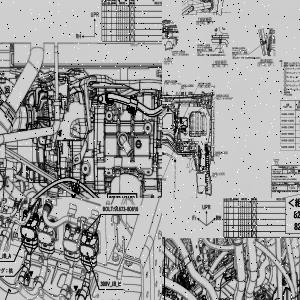PartNumber: (114, 206, 139, 212), (109, 195, 135, 198), (216, 94, 229, 97), (172, 50, 185, 53), (197, 44, 210, 47), (215, 151, 228, 154), (212, 172, 225, 175), (281, 113, 294, 116), (281, 119, 294, 122), (281, 139, 294, 142), (282, 126, 294, 129), (164, 80, 177, 82), (181, 84, 194, 86), (198, 82, 211, 84), (232, 47, 245, 49), (281, 133, 294, 135), (281, 146, 294, 148)
